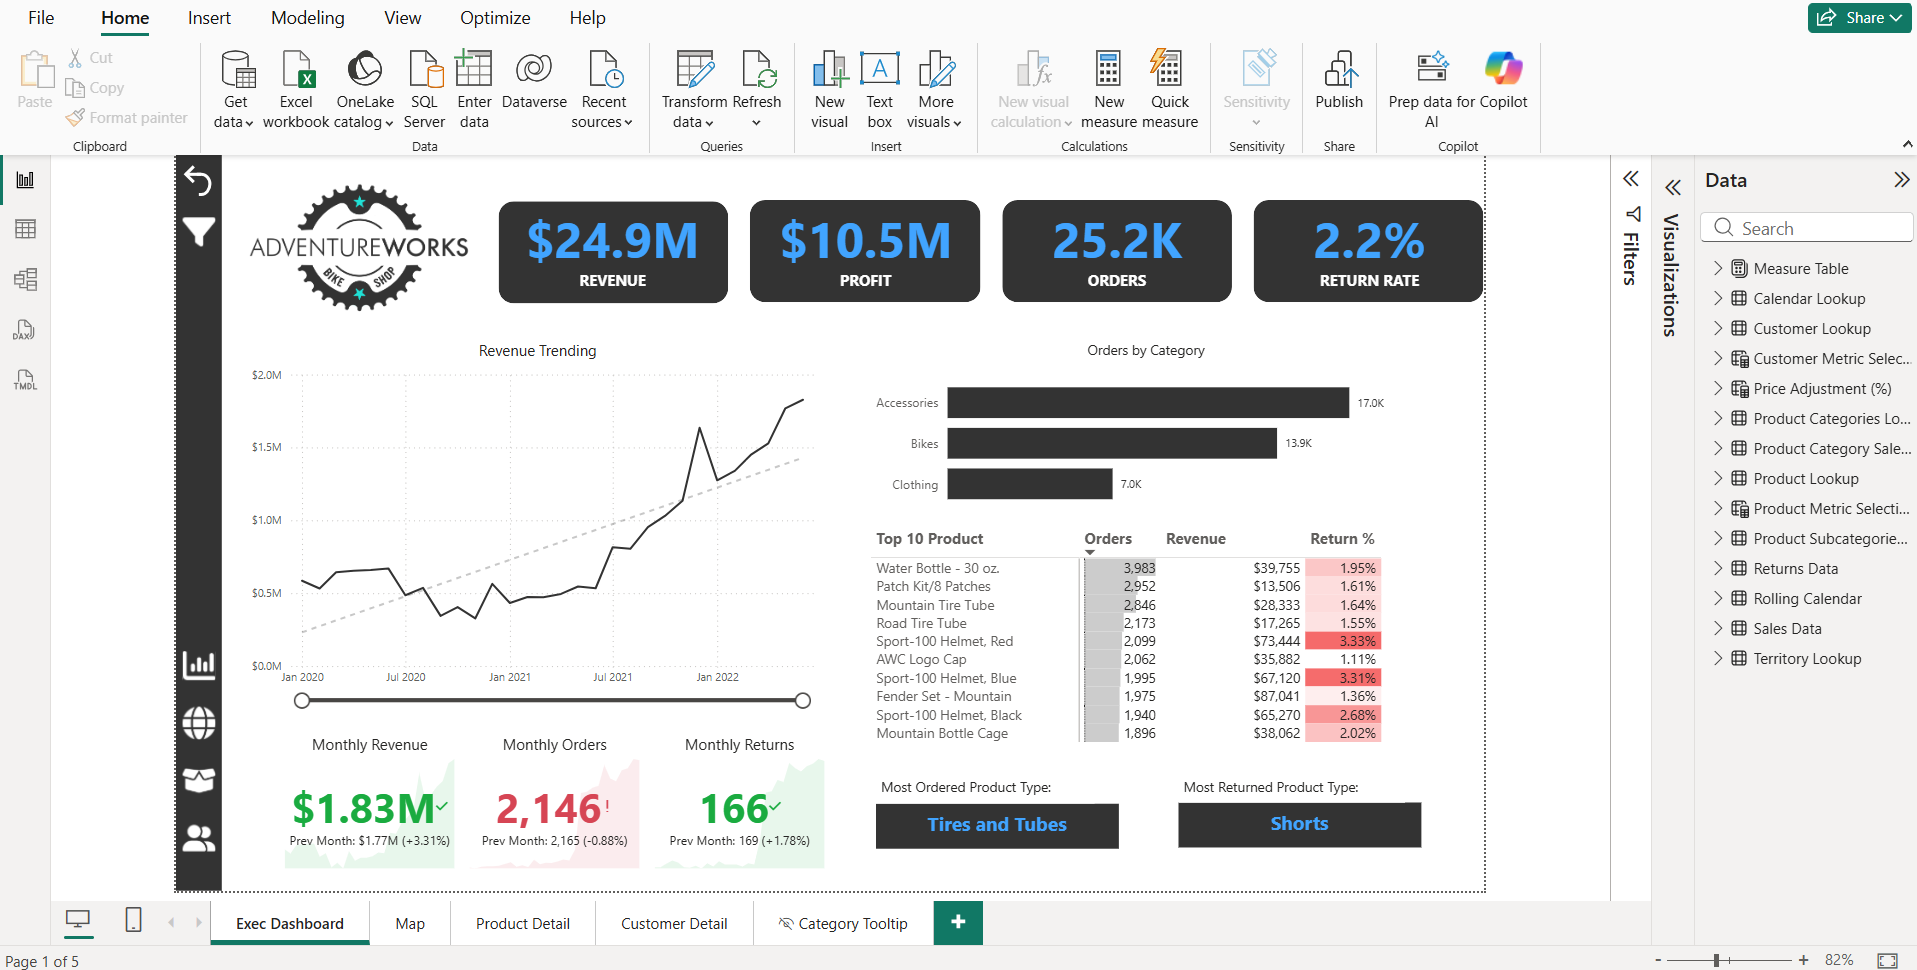

The page's visual inventory and layout, read from the dashboard file:
{"tool":"powerbi","page":{"name":"Exec Dashboard","canvas":[1280,720],"ordinal":0},"visuals":[{"type":"image","title":"AW Logo","box":[44.4,0,271.6,181.5],"z":0},{"type":"card","fields":{"Values":["Measure Table.Total Revenue"]},"box":[314.8,37,226.2,107.6],"z":0,"group":"g2"},{"type":"group","id":"g1","title":"KPI Backgrounds","box":[316.6,44,964,101.2],"z":0,"group":"g3"},{"type":"shape","box":[316.6,45.2,224.7,100],"z":0,"group":"g1"},{"type":"actionButton","box":[2.4,479.4,45.2,40.4],"z":0,"group":"g4"},{"type":"shape","title":"Left Nav Background","box":[0,0,45,719.8],"z":1000},{"type":"group","id":"g2","title":"KPI Values","box":[314.8,37,965.7,107.6],"z":1000,"group":"g3"},{"type":"card","fields":{"Values":["Measure Table.Total Orders"]},"box":[809,37,225,107.6],"z":1000,"group":"g2"},{"type":"shape","box":[562.5,44,225.9,100],"z":1000,"group":"g1"},{"type":"actionButton","box":[2.4,591.9,45.2,40.4],"z":1000,"group":"g4"},{"type":"group","id":"g3","title":"KPIs","box":[314.8,37,965.4,108.6],"z":2000},{"type":"card","fields":{"Values":["Measure Table.Total Profit"]},"box":[562.5,37,225,107.6],"z":2000,"group":"g2"},{"type":"shape","box":[809.6,44,224.7,100],"z":2000,"group":"g1"},{"type":"actionButton","box":[2.4,648.2,45.2,40.4],"z":2000,"group":"g4"},{"type":"card","fields":{"Values":["Measure Table.Return Rate"]},"box":[1055.5,37,225,107.6],"z":3000,"group":"g2"},{"type":"shape","box":[1055.6,44.5,225,100],"z":3000,"group":"g1"},{"type":"lineChart","title":"Revenue Trending","fields":{"Y":["Measure Table.Total Revenue"],"Category":["Calendar Lookup.Year","Calendar Lookup.Start of Quarter","Calendar Lookup.Start of Month"]},"box":[68.5,181,571.1,363.2],"z":3000},{"type":"actionButton","box":[2.4,535.7,45.2,40.4],"z":3000,"group":"g4"},{"type":"kpi","title":"Monthly Revenue","fields":{"Indicator":["Measure Table.Total Revenue"],"TrendLine":["Calendar Lookup.Start of Month"],"Goal":["Measure Table.Previous Month Revenue"]},"box":[101.5,566.2,176.1,137],"z":4000},{"type":"kpi","title":"Monthly Orders","fields":{"TrendLine":["Calendar Lookup.Start of Month"],"Indicator":["Measure Table.Total Orders"],"Goal":["Measure Table.Previous Month Orders"]},"box":[282.5,566.2,176.1,137],"z":5000},{"type":"kpi","title":"Monthly Returns","fields":{"TrendLine":["Calendar Lookup.Start of Month"],"Indicator":["Measure Table.Total Returns"],"Goal":["Measure Table.Previous Month Returns"]},"box":[463.5,566.2,176.1,137],"z":6000},{"type":"barChart","title":"Orders by Category","fields":{"Category":["Product Categories Lookup.CategoryName"],"Y":["Measure Table.Total Orders"]},"box":[675,181,547.8,178.5],"z":7000},{"type":"pivotTable","fields":{"Rows":["Product Lookup.ProductName"],"Values":["Measure Table.Total Orders","Measure Table.Total Revenue","Measure Table.Return Rate"]},"box":[675,359.5,558.8,220.1],"z":8000},{"type":"card","fields":{"Values":["Min(Product Subcategories Lookup.SubcategoryName)"]},"box":[684.8,634.7,237.2,44],"z":9000},{"type":"textbox","box":[684.8,604.1,214,30.6],"z":10000},{"type":"card","fields":{"Values":["Min(Product Subcategories Lookup.SubcategoryName)"]},"box":[980.4,633.9,237.2,44],"z":11000},{"type":"textbox","box":[980.7,604.1,221.3,29.3],"z":12000},{"type":"actionButton","box":[1.2,4.9,44,40.4],"z":13000},{"type":"group","id":"g4","title":"Navigation Buttons","box":[2.4,479.4,45.2,209.1],"z":14000},{"type":"actionButton","box":[2.4,55,47.7,40.4],"z":14500}]}

Visuals, with their boxes on the page's 1280x720 design canvas (x1, y1, x2, y2). These are canvas units, not pixel positions in the 1917x970 screenshot, which may show the page scaled, cropped or inside an application window:
"AW Logo" image: (44,0,316,182)
card - Measure Table.Total Revenue: (315,37,541,145)
"KPI Backgrounds" group: (317,44,1281,145)
shape: (317,45,541,145)
actionButton: (2,479,48,520)
"Left Nav Background" shape: (0,0,45,720)
"KPI Values" group: (315,37,1280,145)
card - Measure Table.Total Orders: (809,37,1034,145)
shape: (562,44,788,144)
actionButton: (2,592,48,632)
"KPIs" group: (315,37,1280,146)
card - Measure Table.Total Profit: (562,37,788,145)
shape: (810,44,1034,144)
actionButton: (2,648,48,689)
card - Measure Table.Return Rate: (1056,37,1280,145)
shape: (1056,44,1281,144)
"Revenue Trending" lineChart: (68,181,640,544)
actionButton: (2,536,48,576)
"Monthly Revenue" kpi: (102,566,278,703)
"Monthly Orders" kpi: (282,566,459,703)
"Monthly Returns" kpi: (464,566,640,703)
"Orders by Category" barChart: (675,181,1223,360)
pivotTable - Product Lookup.ProductName x Measure Table.Total Orders: (675,360,1234,580)
card - Min(Product Subcategories Lookup.SubcategoryName): (685,635,922,679)
textbox: (685,604,899,635)
card - Min(Product Subcategories Lookup.SubcategoryName): (980,634,1218,678)
textbox: (981,604,1202,633)
actionButton: (1,5,45,45)
"Navigation Buttons" group: (2,479,48,688)
actionButton: (2,55,50,95)
